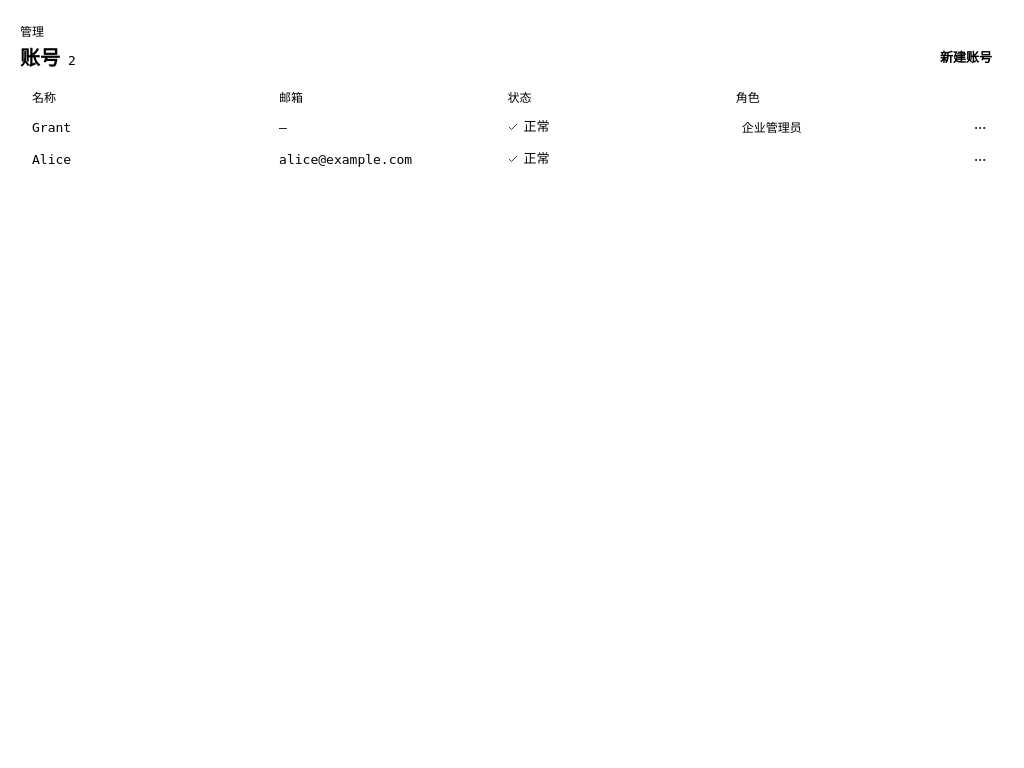
Scenario: /admin/accounts（ListPage） › 授予企业管理员要先确认，确认后才 PATCH（zh）
Step 1. Click the button named "行操作" in the row of "alice@example.com" → x=980, y=160, box x1=968 y1=148 x2=992 y2=172
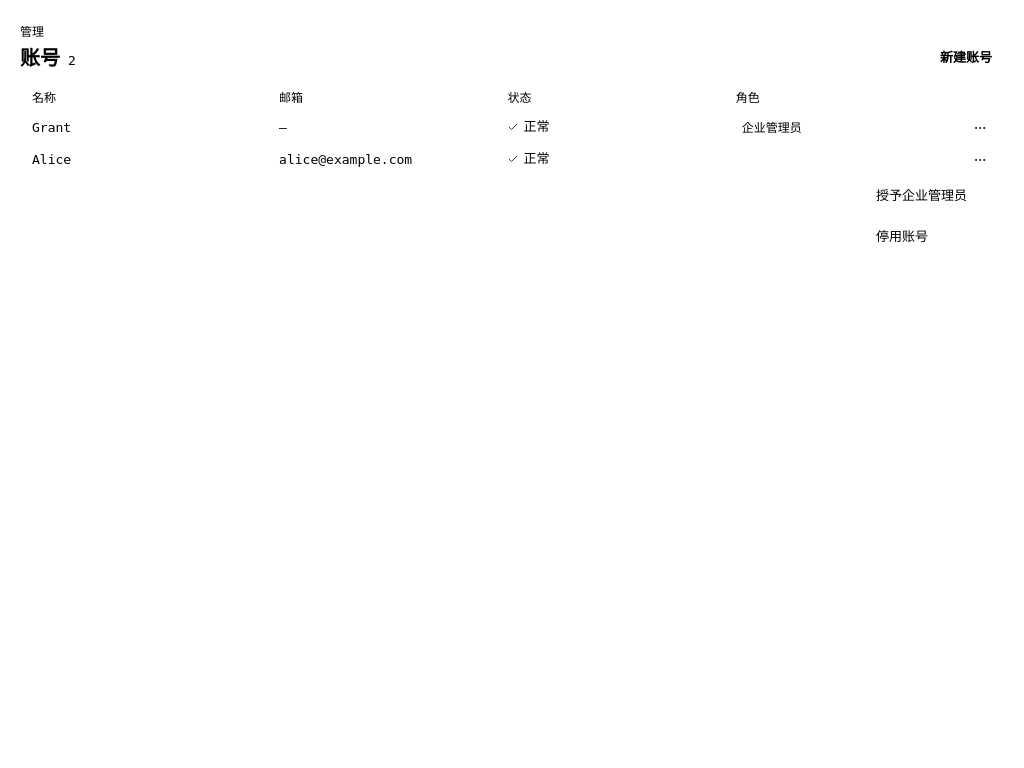
Step 2. Click the menu item "授予企业管理员" → x=922, y=196, box x1=876 y1=188 x2=967 y2=203
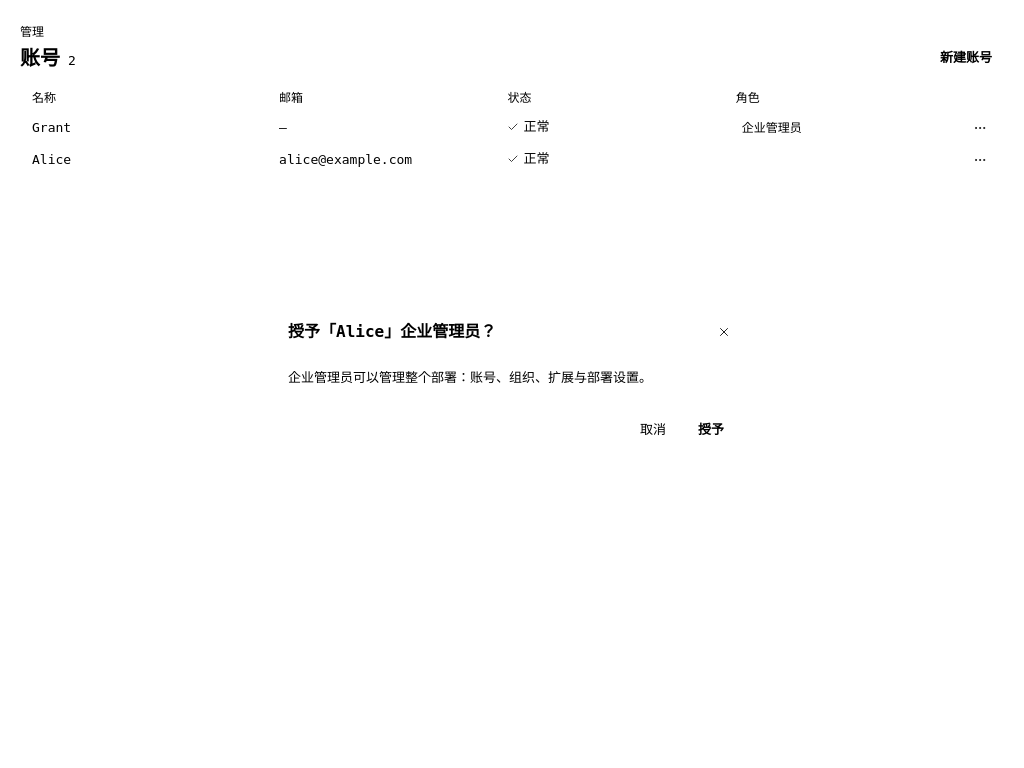
Step 3. Click the button "授予" → x=711, y=430, box x1=686 y1=416 x2=736 y2=444
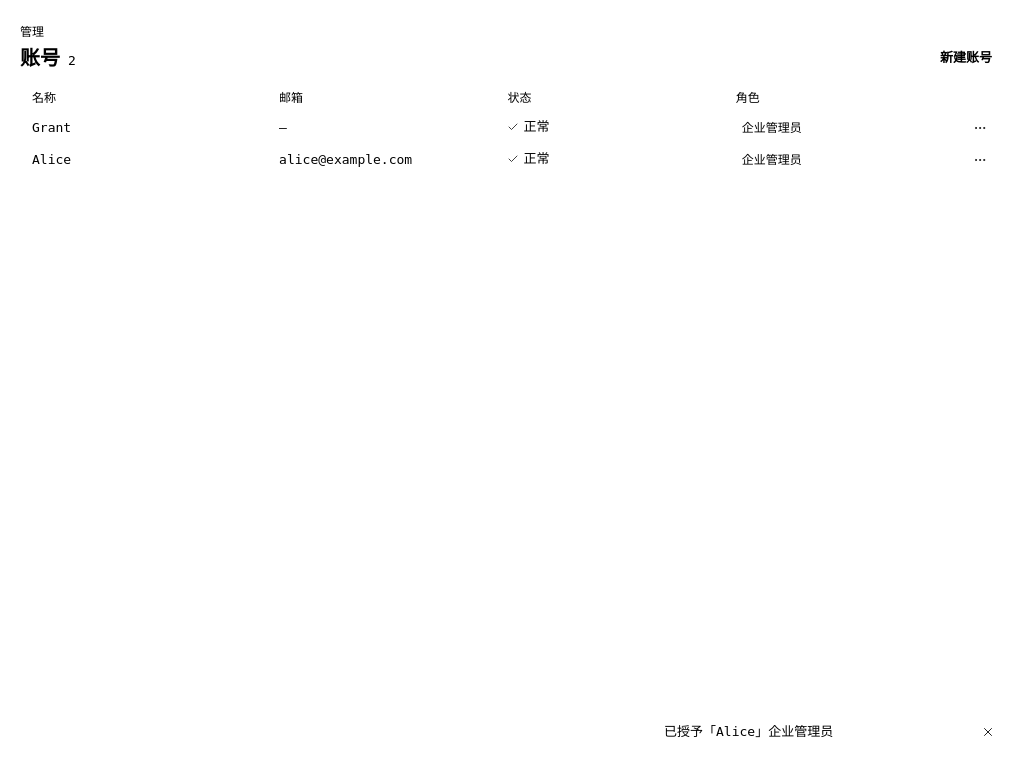
Expected: the text "企业管理员" in the row of "alice@example.com" is shown, x1=742 y1=153 x2=802 y2=167
Expected: the dialog is gone
